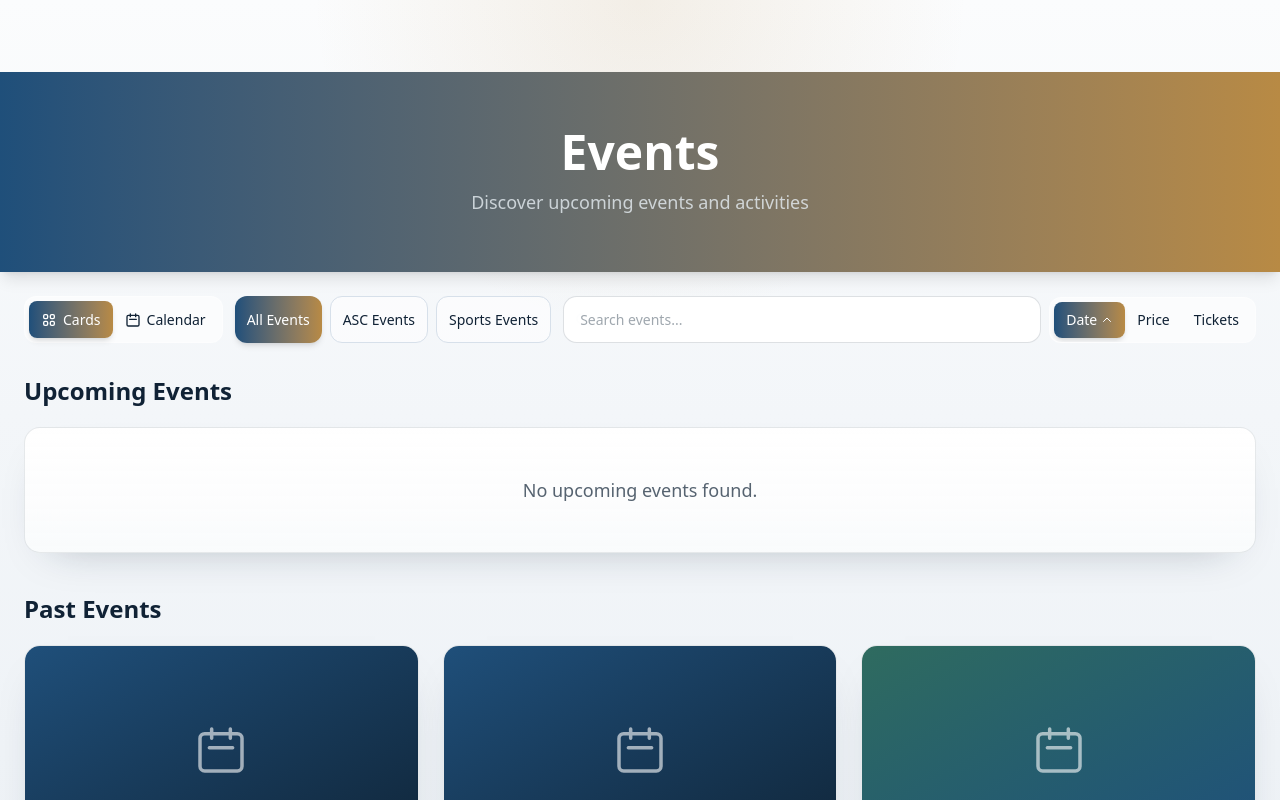
EventPage › hides sort controls in calendar view
What coordinates should you click on to do the following:
click the button "Calendar"
I would click on:
 (165, 320)
Its box is [112, 301, 218, 338].
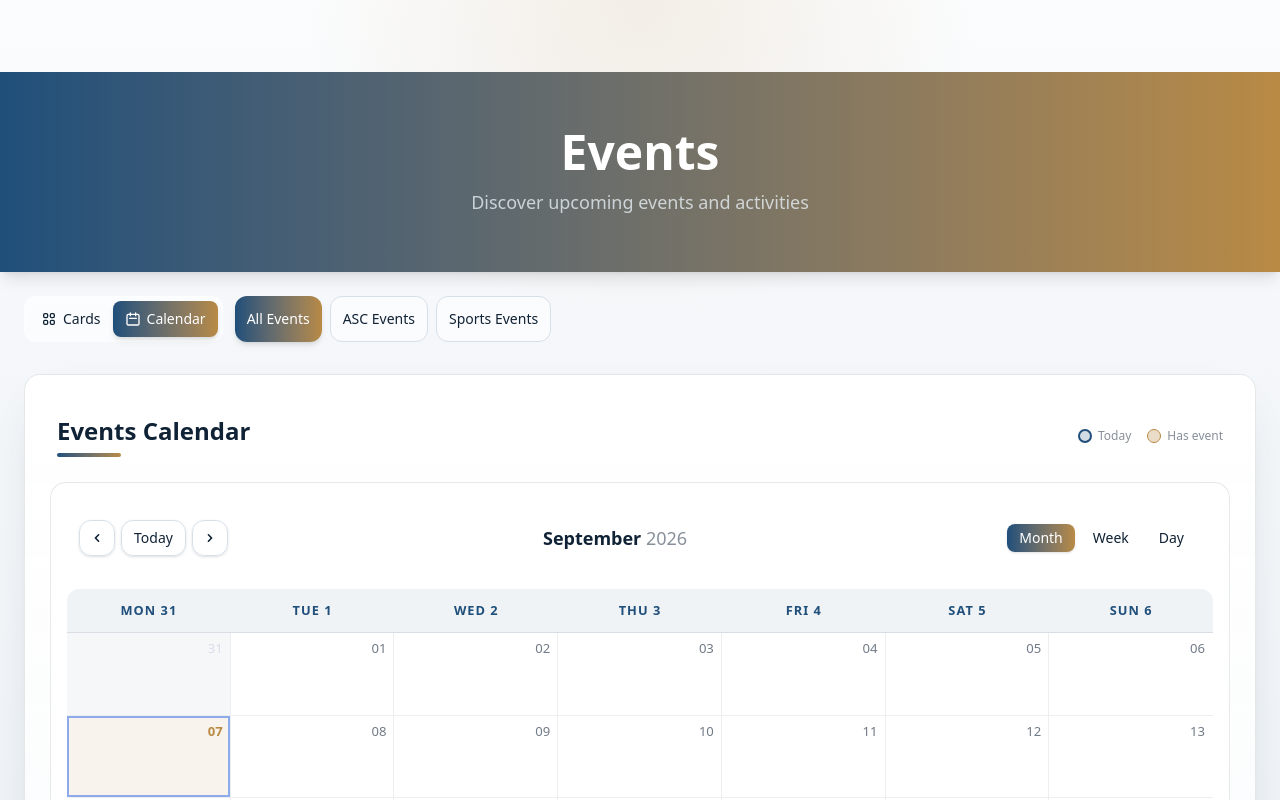
Expected: the field with placeholder "Search events..." is not shown
Expected: the button "Price" is gone
Expected: the button "Tickets" is gone
